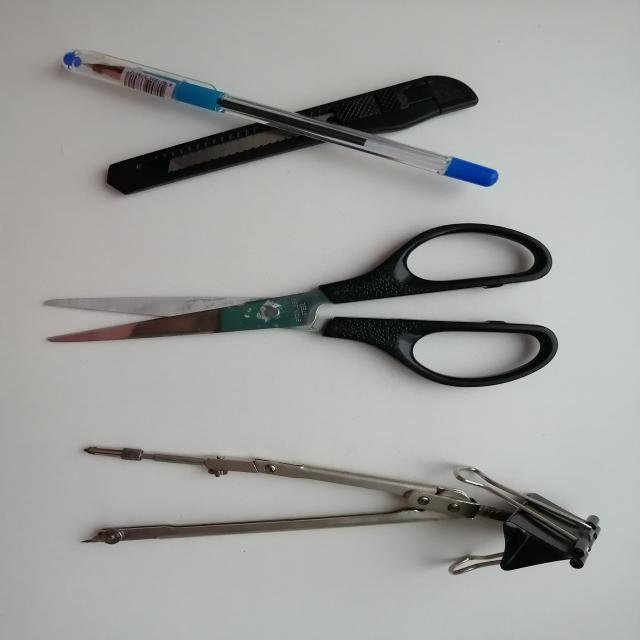scissors: (31, 218, 564, 394)
